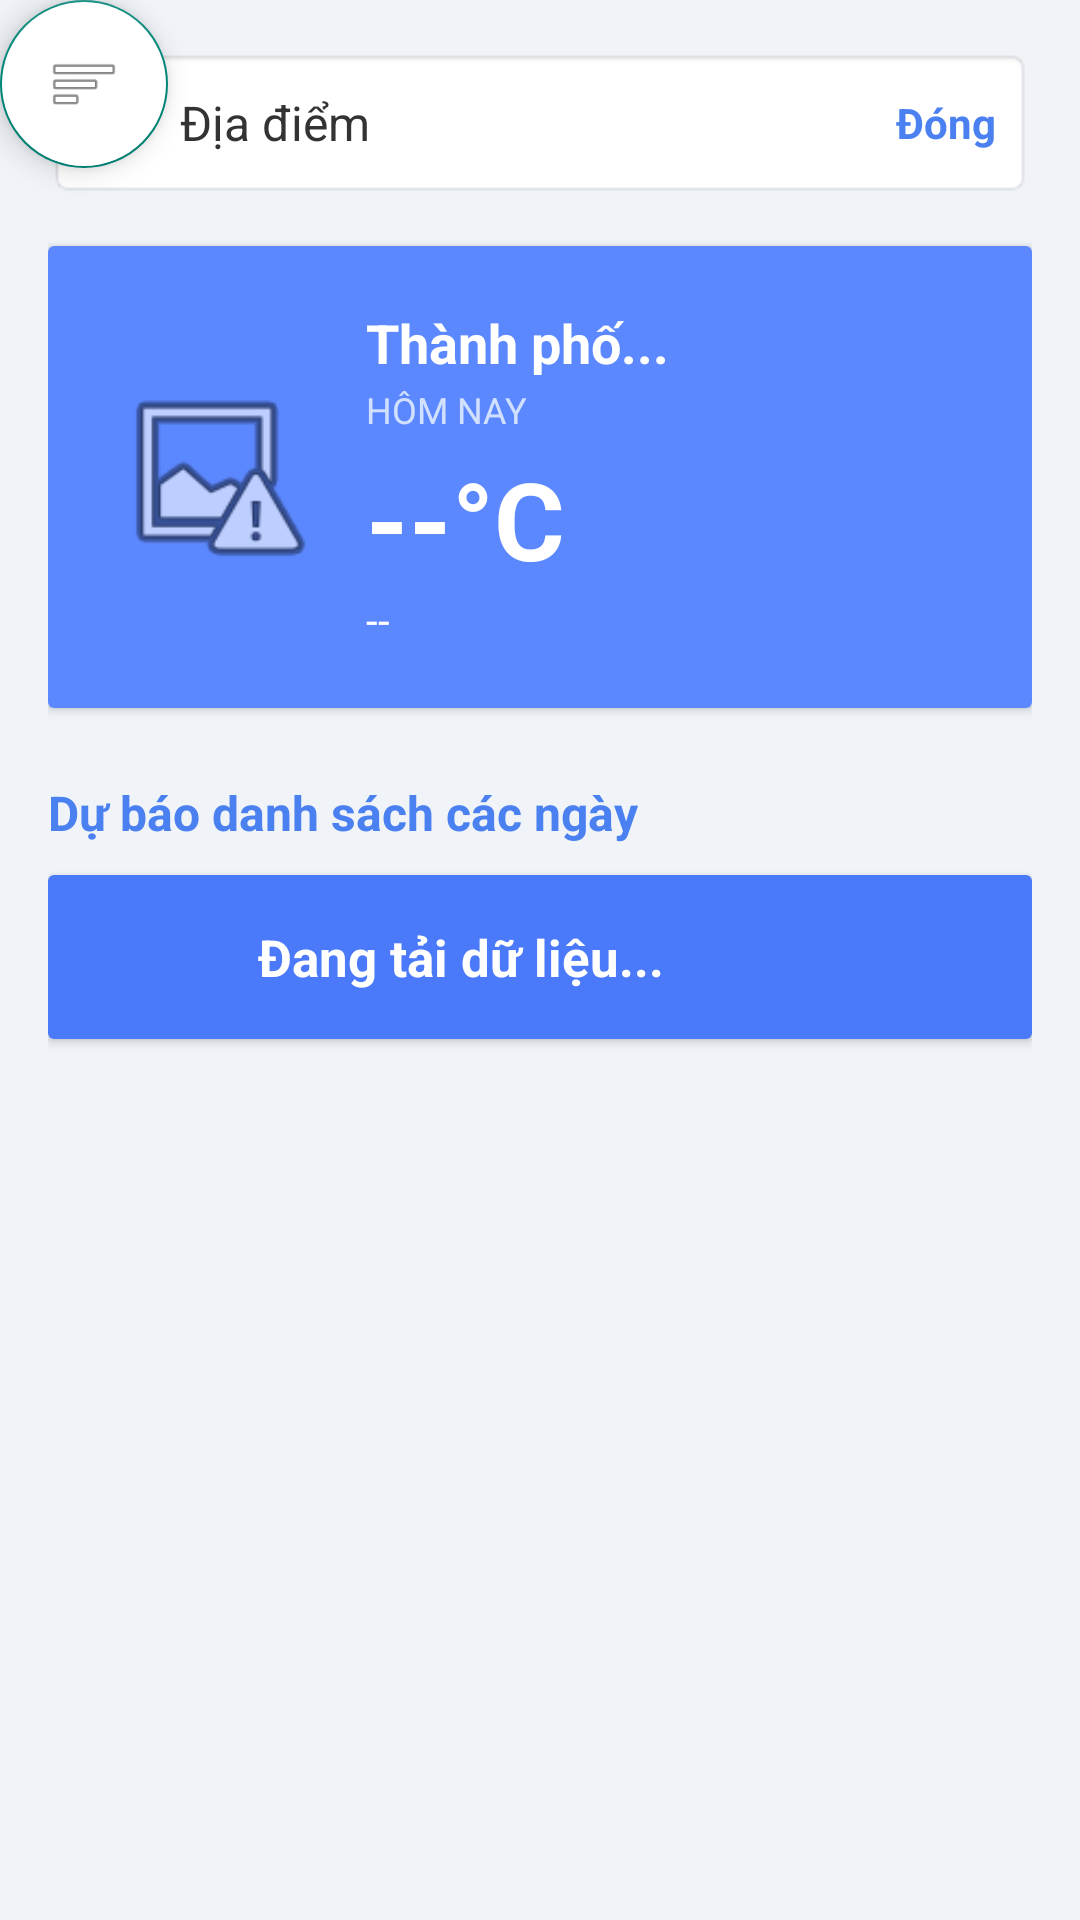

Icons on this 1080x1920 Android screen, each with the point to tap as (x=x, y=y):
report: (x=220, y=478)
